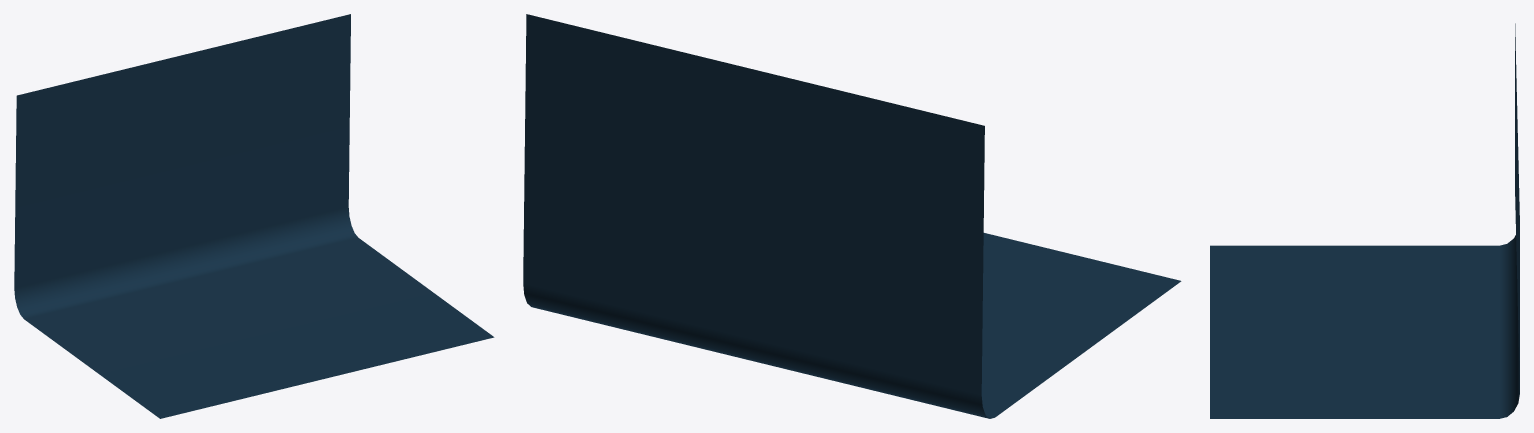
Rendered from SM_ZBackdrop_01.FBX.
3 views of the same model, side by side, from view 1: azimuth 30°, elevation 25°; view 2: azimuth 150°, elevation 25°; view 3: azimuth 270°, elevation 25° (orthographic). The views are drawn at different scales.
Visible parts, largest first — view 1: SM_ZBackdrop_01; view 2: SM_ZBackdrop_01; view 3: SM_ZBackdrop_01.
Part boxes in pixels (x1,y1,x2,y2): SM_ZBackdrop_01: [14, 14, 494, 418]; SM_ZBackdrop_01: [523, 14, 1181, 418]; SM_ZBackdrop_01: [1210, 23, 1519, 418].
Size of the model in its own units: 404 by 305 by 252.
